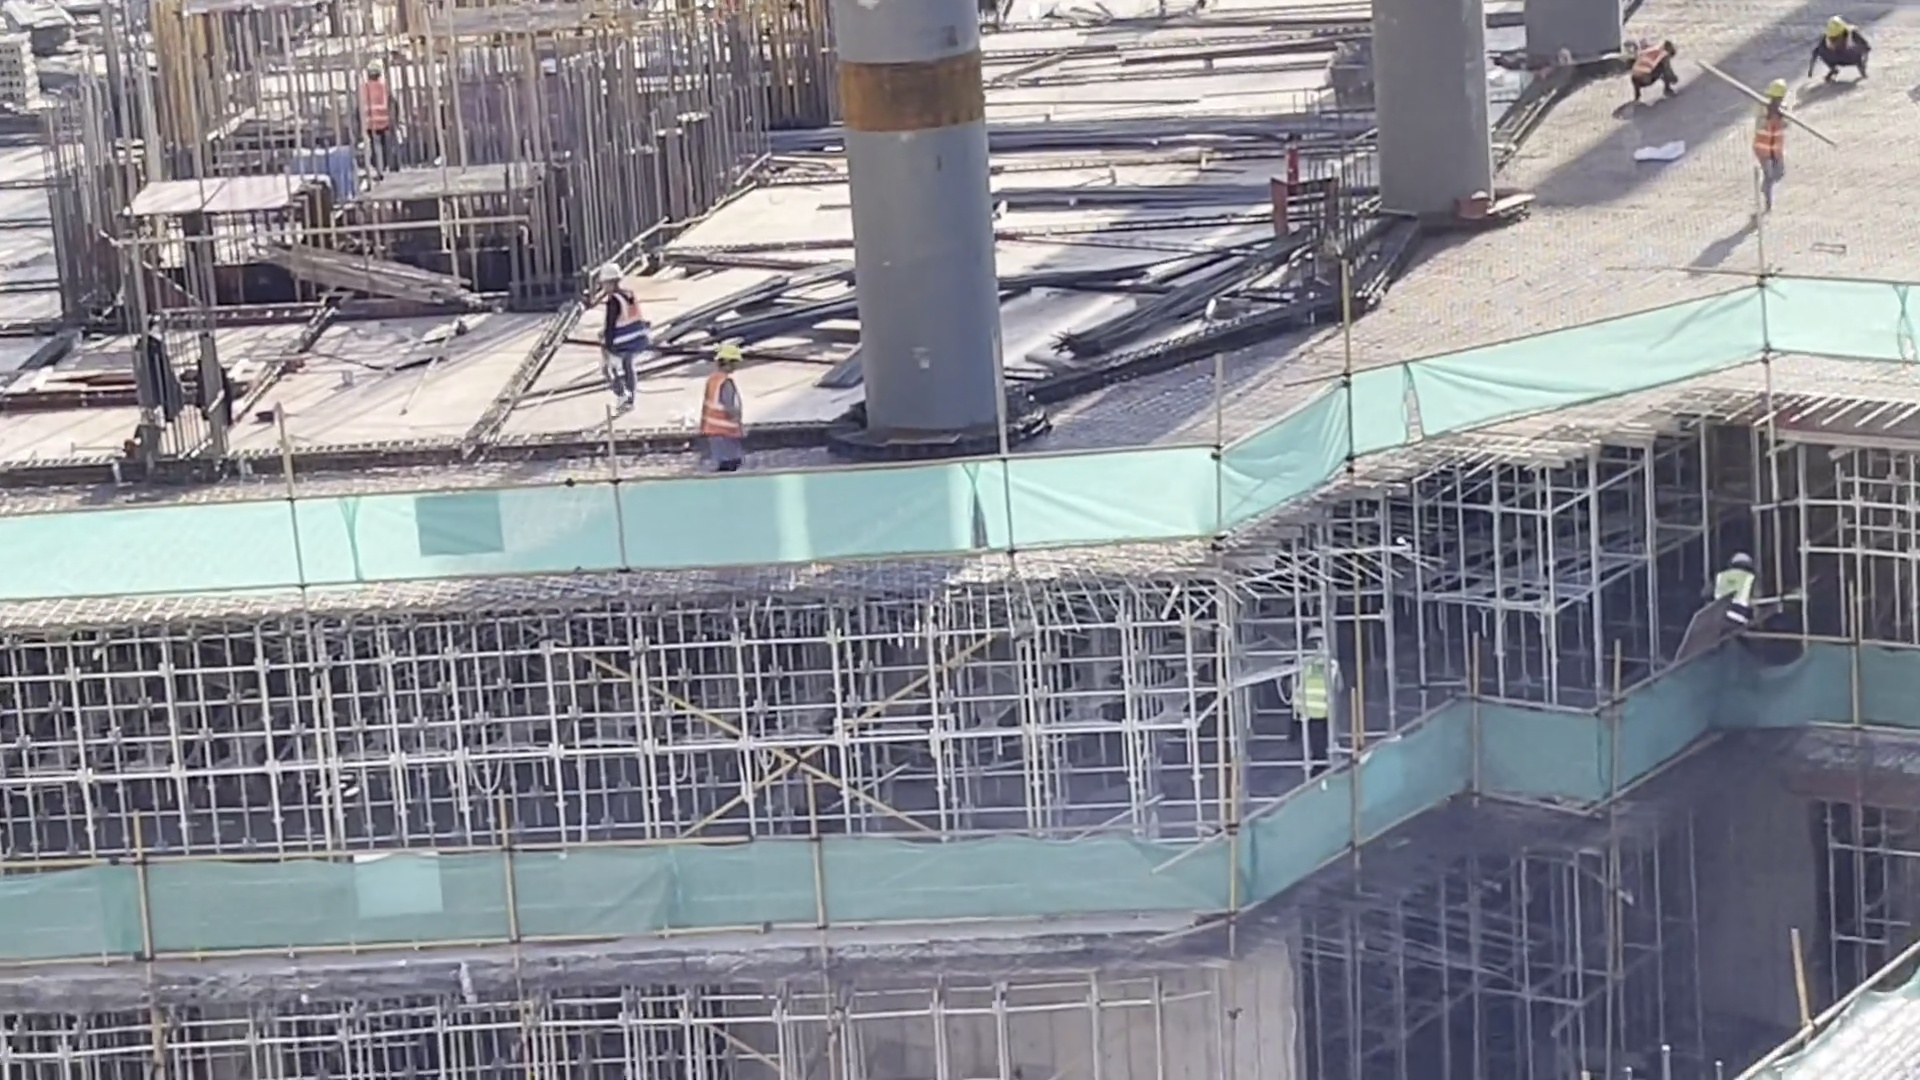helmet: (1817, 8, 1843, 43), (717, 342, 743, 372), (1733, 543, 1756, 574), (1307, 624, 1333, 648), (592, 260, 619, 282), (1669, 31, 1688, 60), (1771, 74, 1791, 100), (360, 61, 382, 83)
person: (686, 345, 751, 493), (589, 254, 649, 417), (1730, 78, 1795, 212), (1286, 632, 1347, 752), (348, 65, 404, 169), (1807, 12, 1870, 86), (1714, 543, 1760, 643), (1632, 41, 1686, 106)
vest: (1295, 655, 1343, 720), (606, 292, 648, 356), (698, 378, 741, 434), (1753, 105, 1791, 159), (355, 83, 395, 132), (1725, 565, 1752, 625), (1637, 44, 1668, 84)
